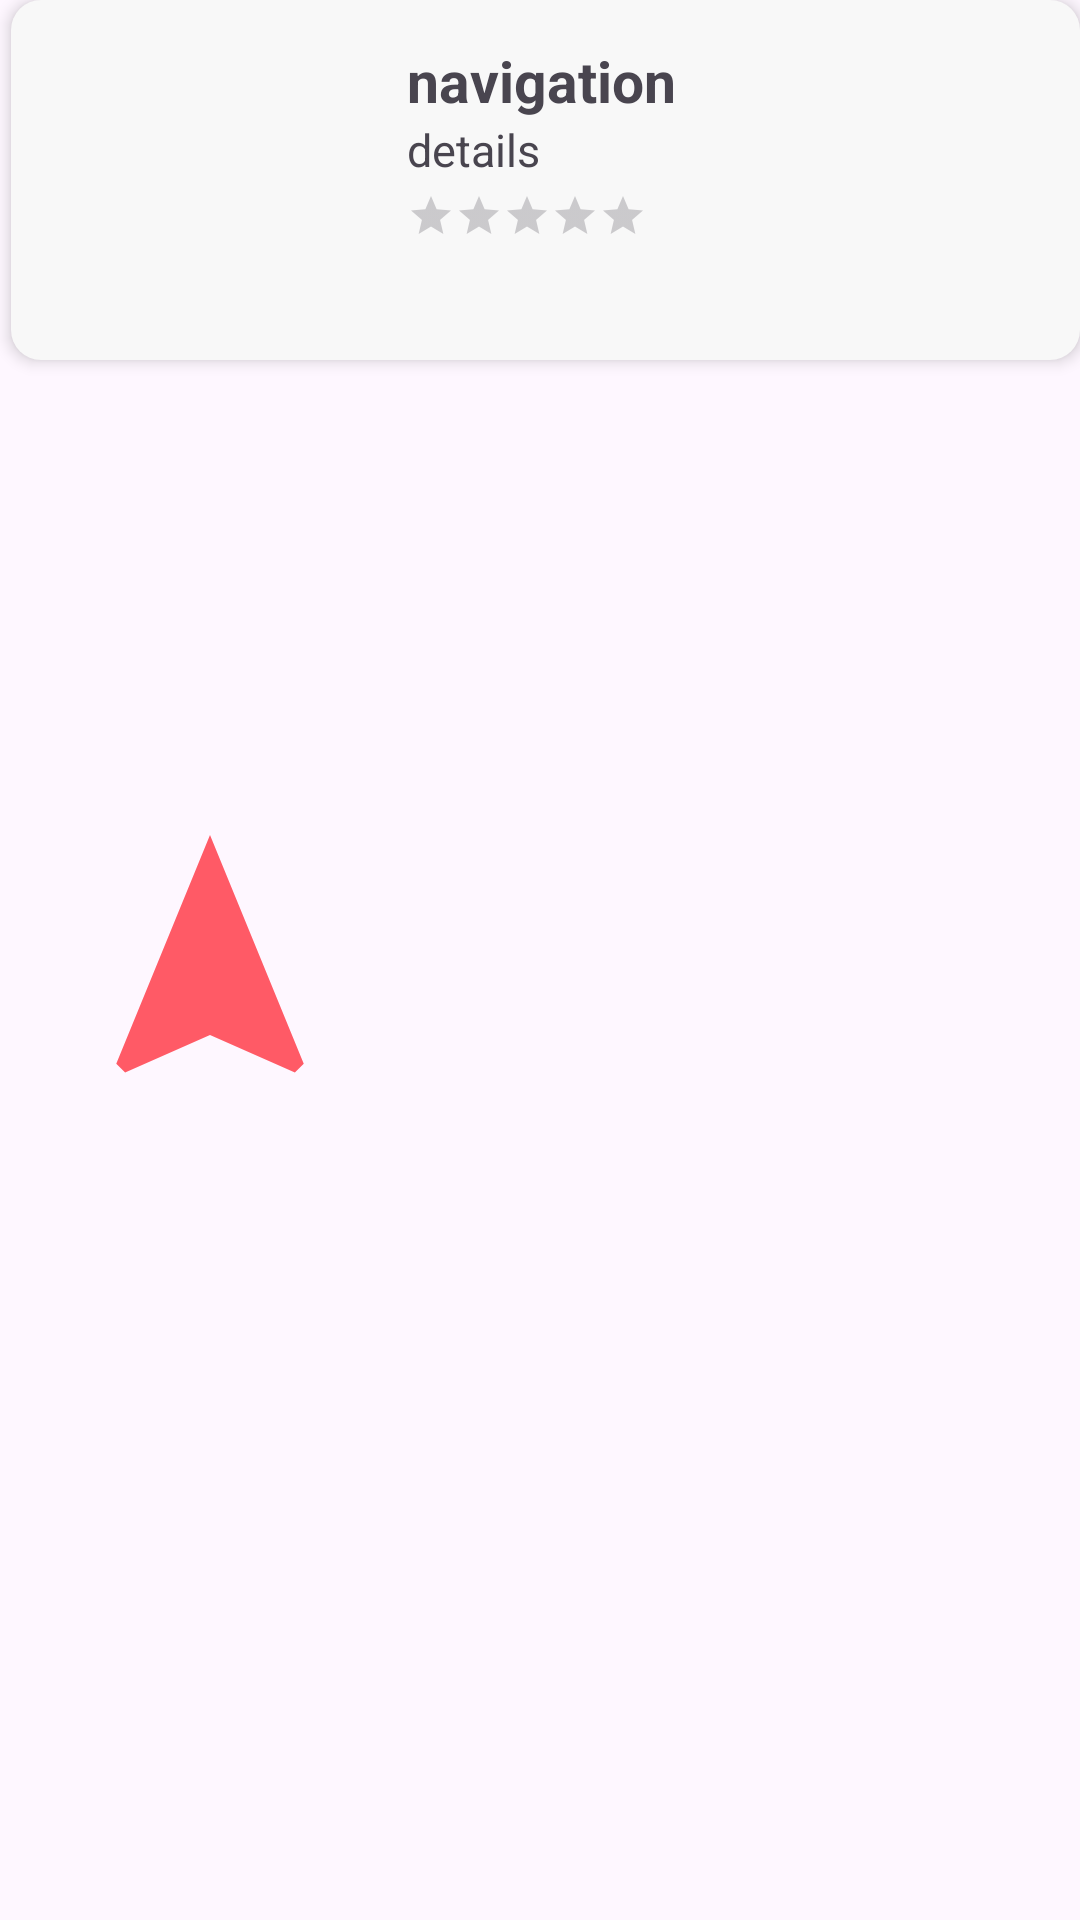

Screen size 1080×1920. Icon name, then its center in pixels as point (x, y):
navigation: point (210, 954)
